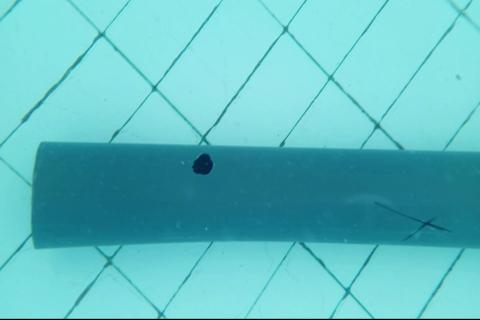kebocoran: (192, 151, 214, 176)
keretakan: (375, 200, 450, 241)
